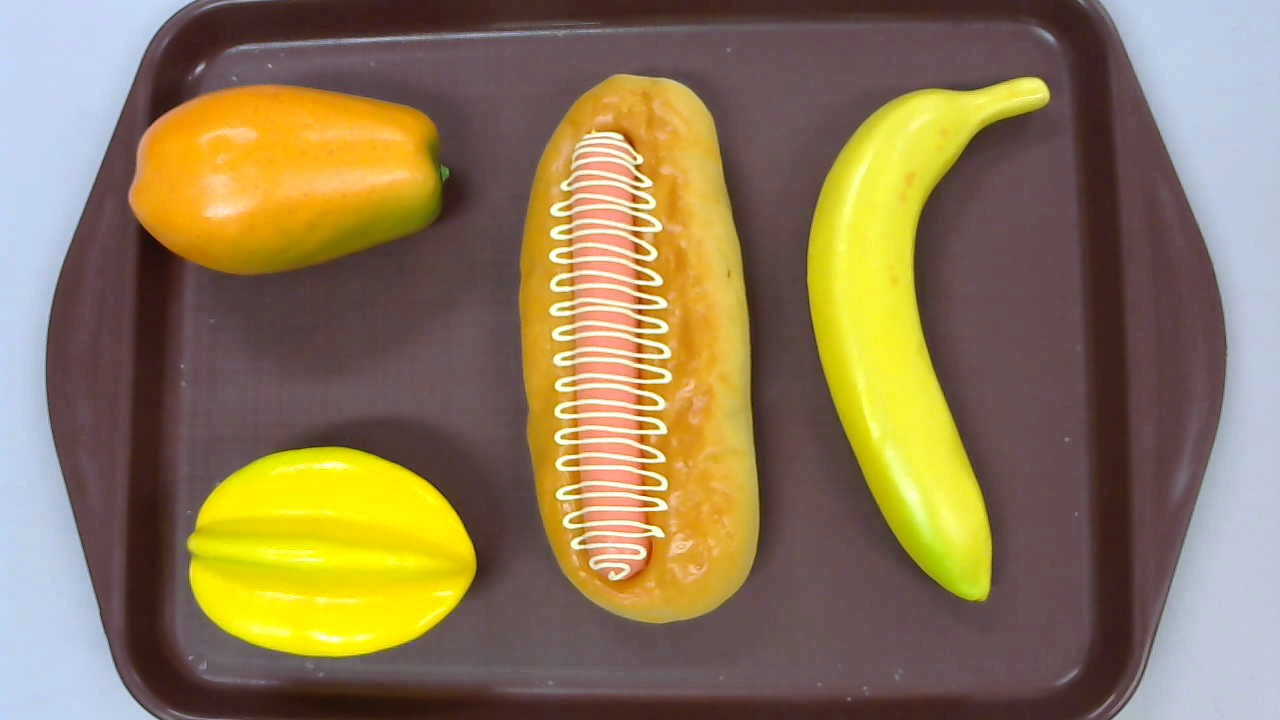banana: (805, 77, 1050, 601)
hot dog: (519, 74, 760, 624)
papaya: (126, 84, 450, 278)
star fruit: (186, 447, 478, 657)
